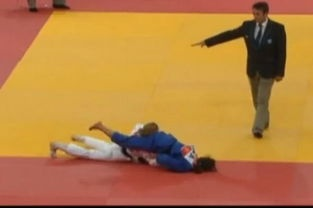falling: (81, 112, 226, 176)
